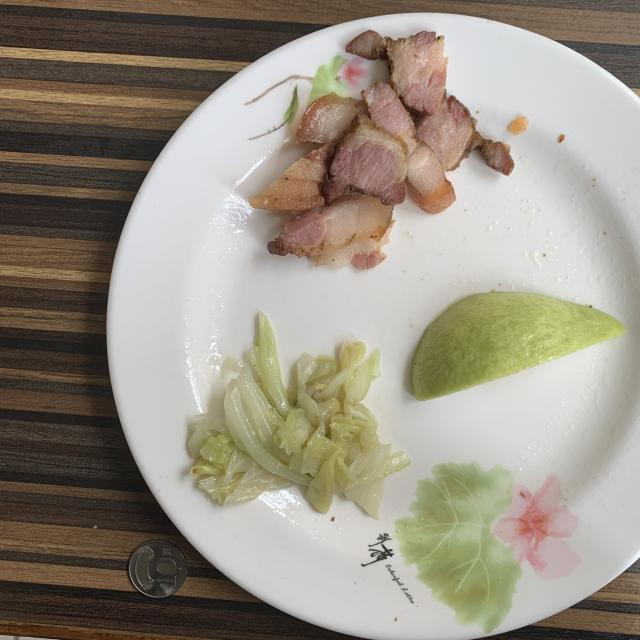cabbage: (188, 314, 410, 518)
coin: (129, 541, 186, 598)
grilled pork: (250, 30, 514, 269)
guava -sliced-: (411, 292, 626, 401)
